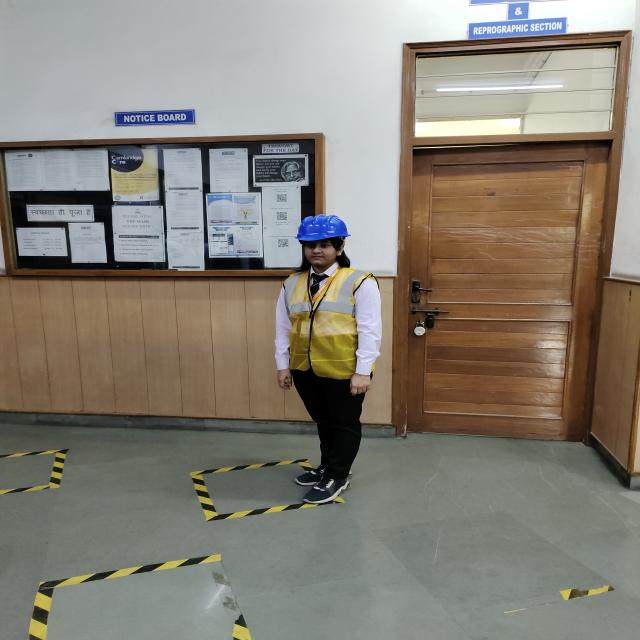safe: (273, 215, 381, 504)
